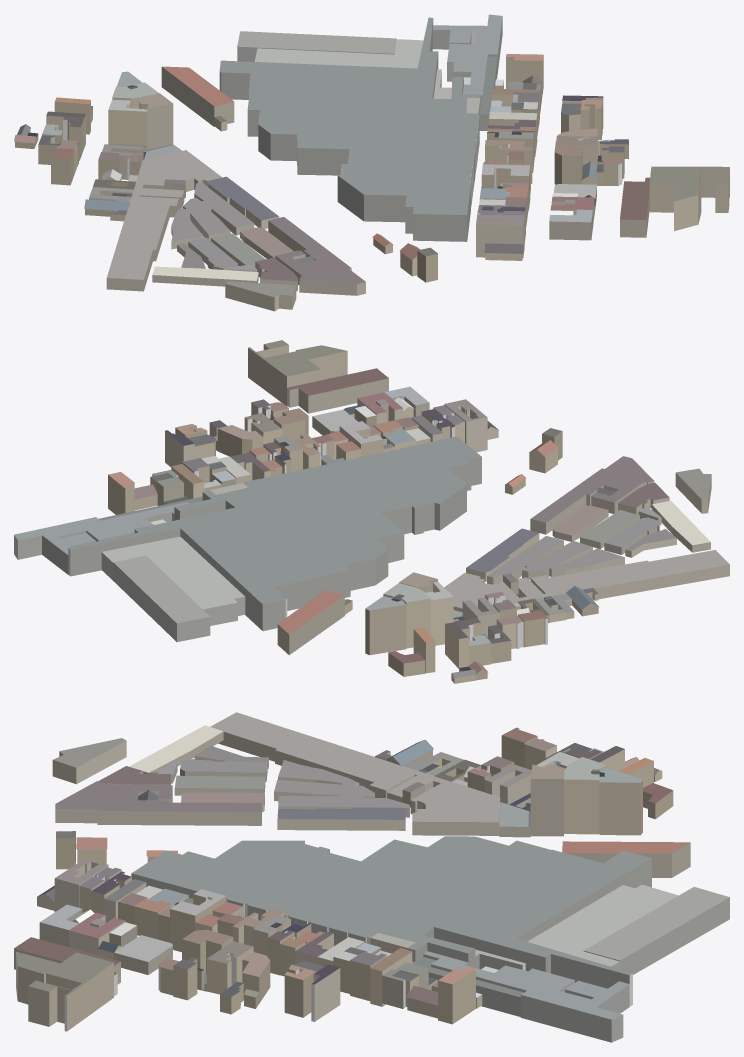
The picture shows the model from 3 angles, top to bottom: view 1: azimuth 30°, elevation 25°; view 2: azimuth 150°, elevation 25°; view 3: azimuth 270°, elevation 25°; orthographic projection. The views are drawn at different scales.
Parts seen in each view (by area): view 1: tuile; view 2: tuile; view 3: tuile.
Boxes of the visible parts, x1,y1,x2,y2 form: tuile: [14, 14, 729, 311]; tuile: [14, 340, 729, 683]; tuile: [14, 712, 729, 1042].
Size of the model in its own units: 314 by 27.95 by 297.
